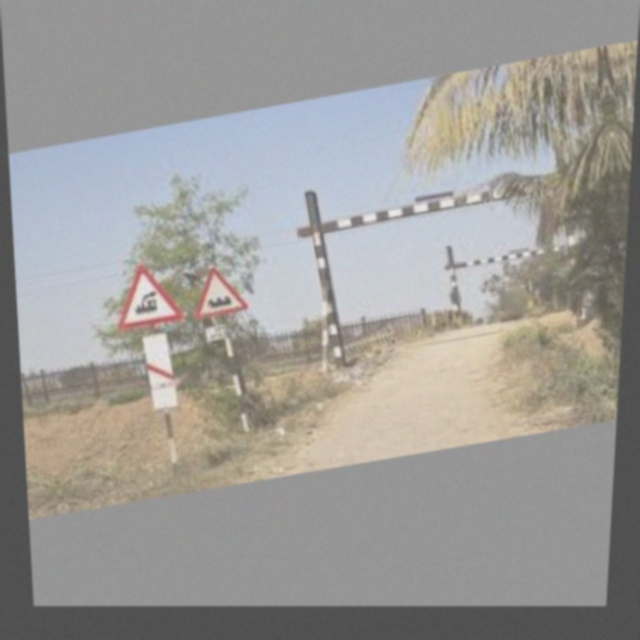Unguarded_Level_Crossing: (106, 250, 185, 337)
